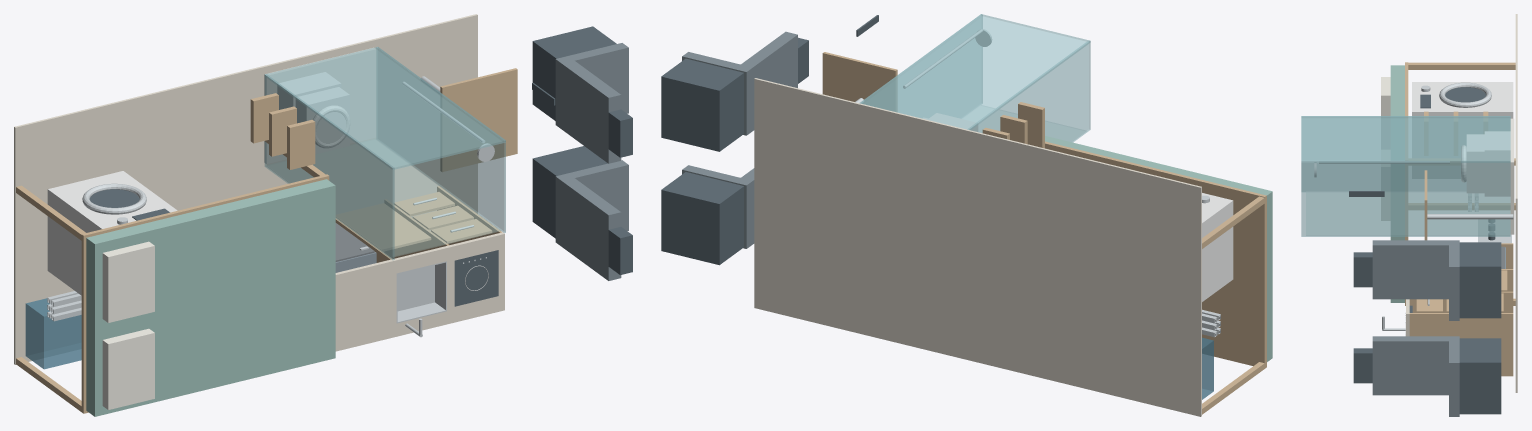
The model's file is interior_equipado.glb.
The picture shows the model from 3 angles, left to right: view 1: azimuth 30°, elevation 25°; view 2: azimuth 150°, elevation 25°; view 3: azimuth 270°, elevation 25°; orthographic projection. The views are drawn at different scales.
Parts seen in each view (by area): view 1: piso__0_piso, cama__2_colchao, banheiro__73_parede_externa, banheiro__74_porta_correr, banheiro__72_parede, banheiro__71_parede, dinette__77_mesa_rebativel, lava_seca__30_carcaca, cozinha__16_tampo, banheiro__70_bandeja, assentos_oem__86_encosto, assentos_oem__82_encosto (+33 smaller); view 2: piso__0_piso, banheiro__73_parede_externa, cama__1_estrado, assentos_oem__80_base_assento, assentos_oem__84_base_assento, banheiro__72_parede, banheiro__71_parede, dinette__77_mesa_rebativel, lava_seca__30_carcaca, cama__2_colchao, assentos_oem__86_encosto, assentos_oem__85_almofada (+7 smaller); view 3: banheiro__72_parede, banheiro__71_parede, banheiro__73_parede_externa, banheiro__74_porta_correr, lava_seca__30_carcaca, assentos_oem__82_encosto, assentos_oem__86_encosto, assentos_oem__80_base_assento, assentos_oem__84_base_assento, cozinha__15_divisoria, cama__2_colchao, sanitario__58_tanque_inferior (+23 smaller).
Boxes of the visible parts, box(x1,y1,x2,y2) form: piso__0_piso: box(14, 14, 477, 364); cama__2_colchao: box(86, 179, 335, 416); banheiro__73_parede_externa: box(265, 47, 505, 169); banheiro__74_porta_correr: box(266, 139, 500, 257); banheiro__72_parede: box(376, 47, 505, 232); banheiro__71_parede: box(264, 74, 394, 260); dinette__77_mesa_rebativel: box(440, 68, 517, 171); lava_seca__30_carcaca: box(47, 171, 177, 295); cozinha__16_tampo: box(335, 259, 396, 351); banheiro__70_bandeja: box(264, 47, 375, 163); assentos_oem__86_encosto: box(562, 61, 621, 163); assentos_oem__82_encosto: box(562, 178, 621, 280); piso__0_piso: box(754, 78, 1201, 416); banheiro__73_parede_externa: box(860, 14, 1090, 129); cama__1_estrado: box(1045, 141, 1266, 368); assentos_oem__80_base_assento: box(661, 172, 743, 265); assentos_oem__84_base_assento: box(661, 58, 743, 151); banheiro__72_parede: box(860, 14, 982, 118); banheiro__71_parede: box(967, 40, 1090, 142); dinette__77_mesa_rebativel: box(822, 52, 897, 111); lava_seca__30_carcaca: box(1202, 193, 1233, 301); cama__2_colchao: box(1045, 136, 1272, 361); assentos_oem__86_encosto: box(741, 31, 797, 130); assentos_oem__85_almofada: box(682, 52, 752, 135); banheiro__72_parede: box(1301, 160, 1510, 236); banheiro__71_parede: box(1301, 116, 1510, 191); banheiro__73_parede_externa: box(1301, 116, 1510, 162); banheiro__74_porta_correr: box(1306, 193, 1509, 235); lava_seca__30_carcaca: box(1412, 82, 1513, 178); assentos_oem__82_encosto: box(1372, 336, 1448, 395); assentos_oem__86_encosto: box(1372, 240, 1448, 299); assentos_oem__80_base_assento: box(1459, 338, 1501, 414); assentos_oem__84_base_assento: box(1459, 242, 1501, 318); cozinha__15_divisoria: box(1409, 313, 1513, 376); cama__2_colchao: box(1390, 65, 1404, 302); sanitario__58_tanque_inferior: box(1485, 131, 1510, 196).
Bounding box in the file's own units: 4.55 × 1.8 × 1.82.
